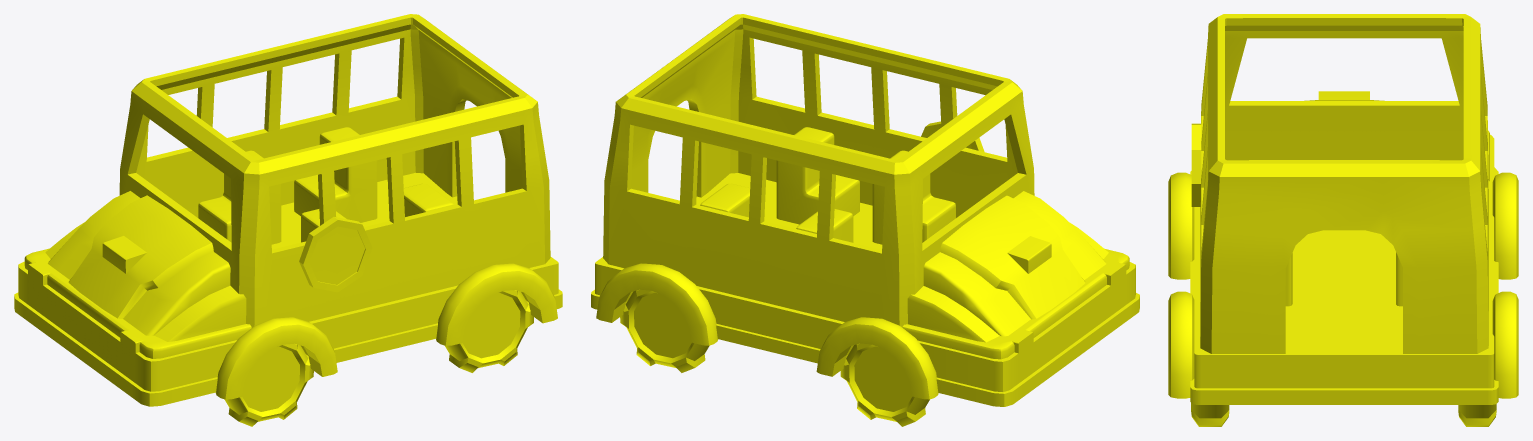
The model's file is toy_bus.fbx.
3 renders of one model, left to right at view 1: azimuth 30°, elevation 25°; view 2: azimuth 150°, elevation 25°; view 3: azimuth 270°, elevation 25°, orthographic. The views are drawn at different scales.
Visible parts, largest first — view 1: toy_bus; view 2: toy_bus; view 3: toy_bus.
Boxes of the visible parts, x1,y1,x2,y2 form: toy_bus: (14, 14, 562, 426); toy_bus: (591, 14, 1139, 426); toy_bus: (1168, 14, 1518, 426).
Bounding box in the file's own units: 13.53 × 7.9 × 8.89.
